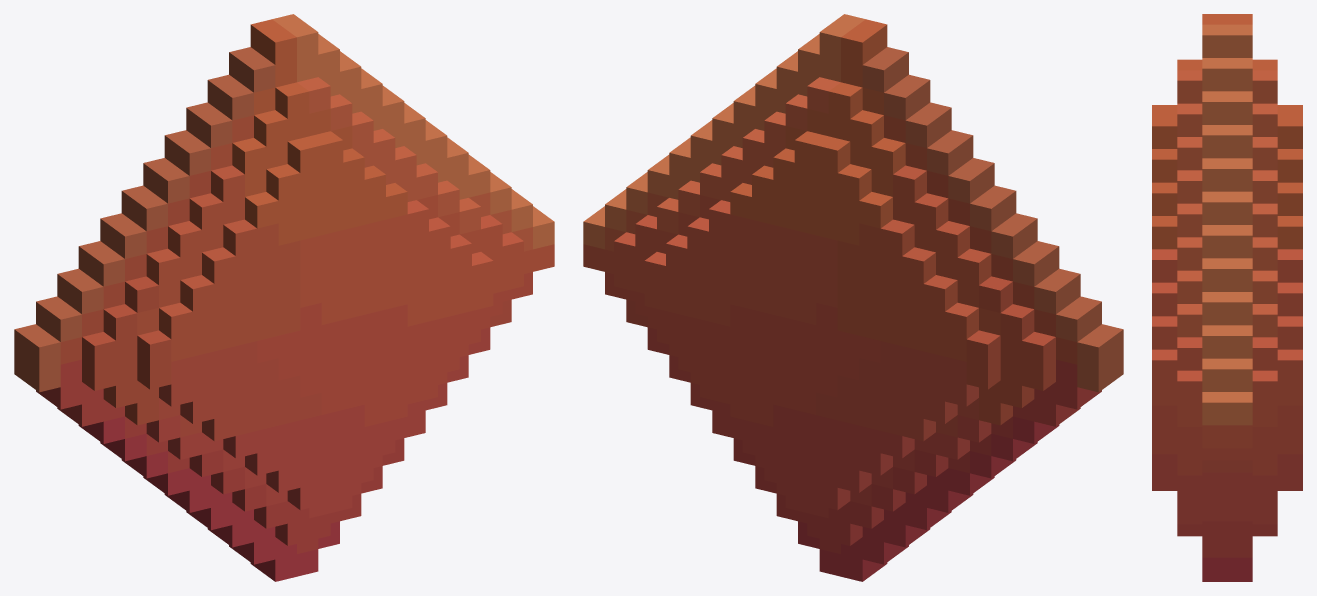
File: orange-diamond.glb
The picture shows the model from 3 angles, left to right: view 1: azimuth 30°, elevation 25°; view 2: azimuth 150°, elevation 25°; view 3: azimuth 270°, elevation 25°; orthographic projection.
Visible parts, largest first — view 1: prop; view 2: prop; view 3: prop.
Boxes of the visible parts, x1,y1,x2,y2 form: prop: (14,14,554,581); prop: (583,14,1123,581); prop: (1152,14,1302,581).
Bounding box in the file's own units: 16 × 16 × 4.
